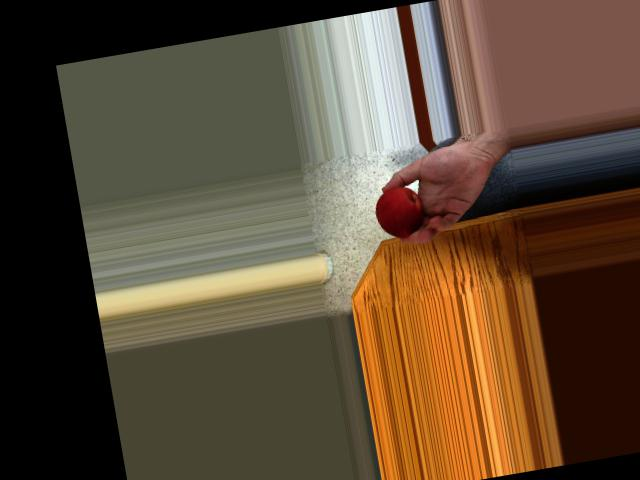apple: (370, 177, 434, 241)
